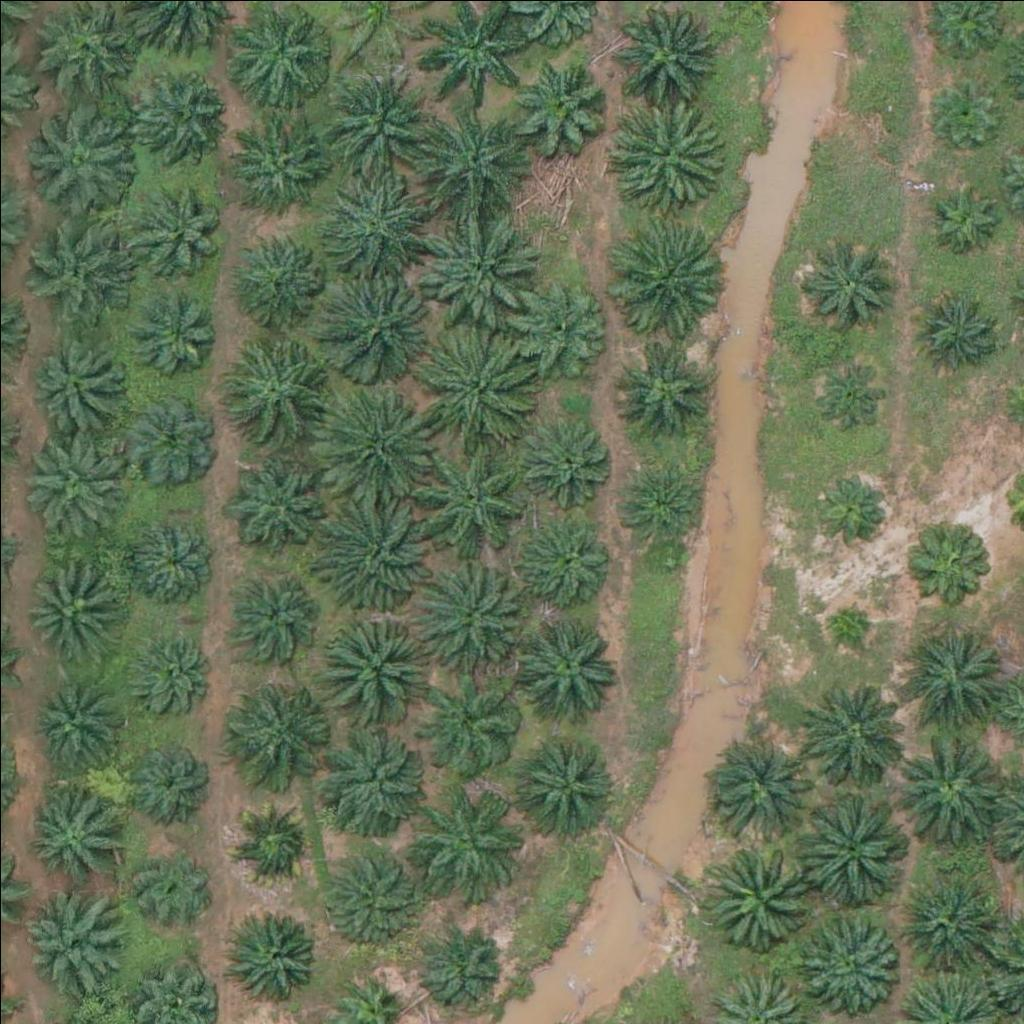Kelapa_Sawit: (608, 224, 721, 338), (27, 100, 140, 213), (424, 208, 537, 321), (612, 101, 725, 214), (315, 387, 428, 500), (315, 498, 428, 611), (316, 616, 429, 729), (315, 731, 428, 844), (418, 556, 531, 669), (416, 327, 529, 440), (799, 791, 912, 904), (802, 674, 915, 787), (320, 169, 432, 283), (319, 56, 431, 170), (15, 425, 127, 539), (312, 272, 424, 386), (896, 731, 1008, 845), (21, 217, 133, 330), (414, 110, 526, 223), (220, 672, 332, 785), (218, 322, 330, 435), (412, 442, 524, 555), (704, 839, 816, 952), (707, 731, 819, 844), (891, 622, 1003, 735), (134, 61, 234, 162), (800, 231, 900, 332), (21, 786, 121, 887), (121, 386, 221, 487), (229, 446, 329, 547), (427, 786, 527, 887), (421, 674, 521, 775), (515, 520, 615, 621), (515, 612, 615, 713), (509, 738, 609, 839), (613, 340, 713, 441), (800, 912, 900, 1013), (228, 104, 328, 204), (235, 3, 335, 103), (511, 55, 611, 155), (19, 890, 119, 990), (18, 553, 118, 653), (25, 332, 125, 432), (120, 508, 220, 608), (320, 852, 420, 952), (508, 278, 608, 378), (512, 419, 612, 519), (893, 875, 993, 975), (803, 349, 891, 438), (135, 187, 223, 275), (238, 233, 326, 321), (31, 682, 119, 770), (132, 290, 220, 378), (126, 843, 214, 931), (125, 731, 213, 819), (125, 626, 213, 714), (417, 923, 505, 1011), (903, 524, 991, 612), (909, 285, 997, 373), (231, 914, 318, 1002), (806, 468, 893, 556), (231, 796, 318, 884), (234, 575, 321, 663), (619, 465, 706, 553), (926, 70, 1001, 146), (923, 176, 998, 251), (824, 591, 874, 641)
